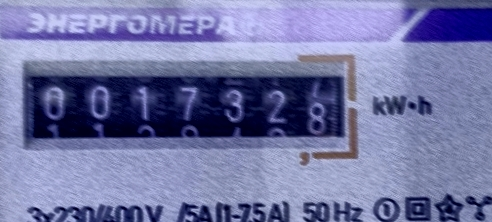0: (40, 80, 67, 121), (88, 80, 111, 119)
1: (132, 81, 151, 121)
2: (264, 85, 287, 123)
3: (222, 85, 245, 121)
7: (177, 81, 200, 121)
8: (306, 97, 325, 133)
screen: (11, 48, 367, 172)
